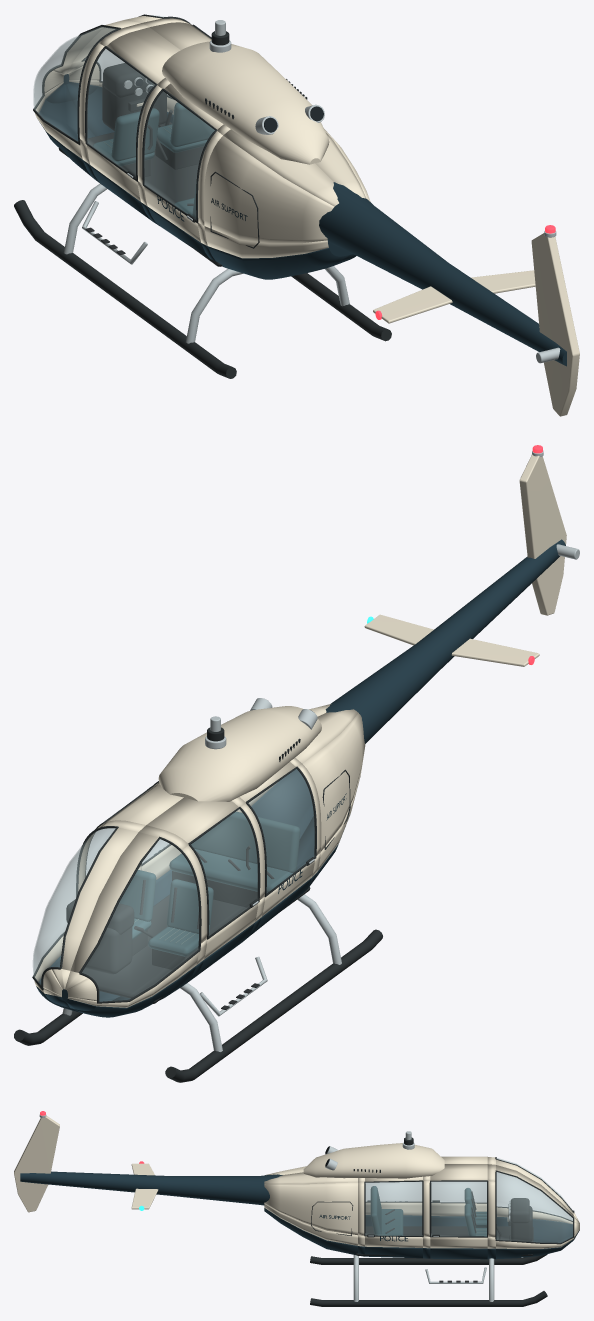
Rendered from JetRanger.fbx.
The picture shows the model from 3 angles, top to bottom: view 1: azimuth 30°, elevation 25°; view 2: azimuth 150°, elevation 25°; view 3: azimuth 270°, elevation 25°; orthographic projection. The views are drawn at different scales.
Visible parts, largest first — view 1: JetRanger; view 2: JetRanger; view 3: JetRanger.
Boxes of the visible parts, bbox=[...] form: JetRanger: bbox=[14, 14, 579, 416]; JetRanger: bbox=[14, 445, 579, 1082]; JetRanger: bbox=[14, 1111, 579, 1306].
Bounding box in the file's own units: 188 × 335 × 992.
